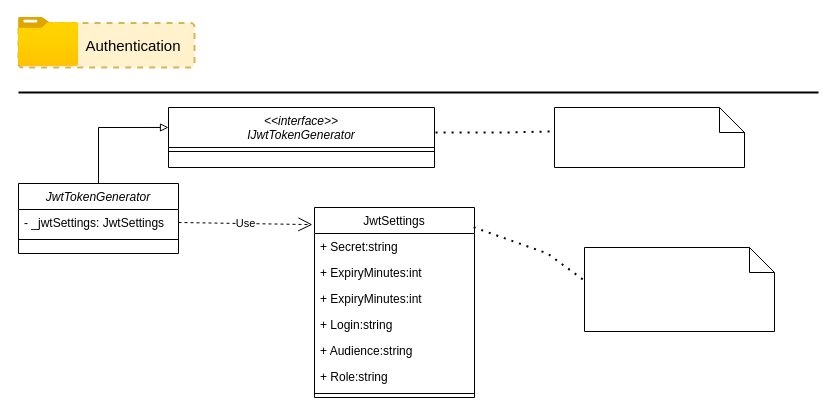
The diagram is 836 pixels wide and 415 high, and some of its shapes have lost their labels. The centre of each missing label's shape, as x and y in pixels:
"From Application Layer" belongs at (649,137).
"This object will be configured from appsettings.json data." belongs at (679,289).
